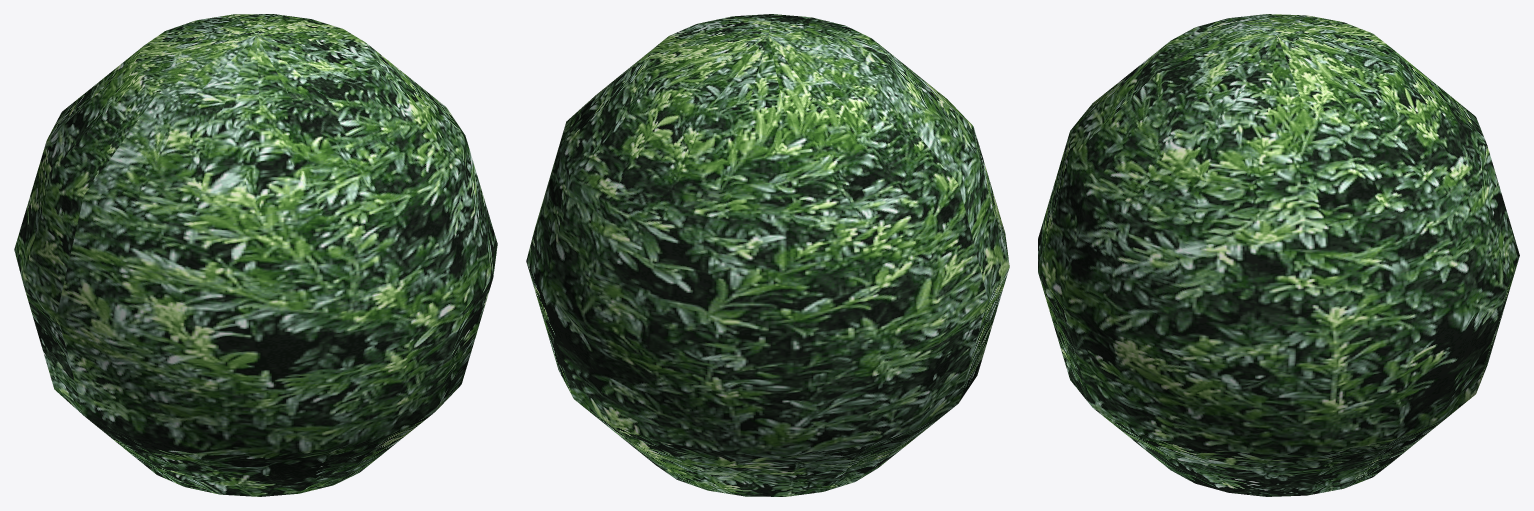
Rendered from arbustos.fbx.
3 views of the same model, side by side, from view 1: azimuth 30°, elevation 25°; view 2: azimuth 150°, elevation 25°; view 3: azimuth 270°, elevation 25° (orthographic).
Parts seen in each view (by area): view 1: Sphere; view 2: Sphere; view 3: Sphere.
Part boxes in pixels (x1,y1,x2,y2): Sphere: [14, 14, 497, 496]; Sphere: [526, 14, 1009, 496]; Sphere: [1038, 14, 1519, 496].
Size of the model in its own units: 199 by 200 by 199.
